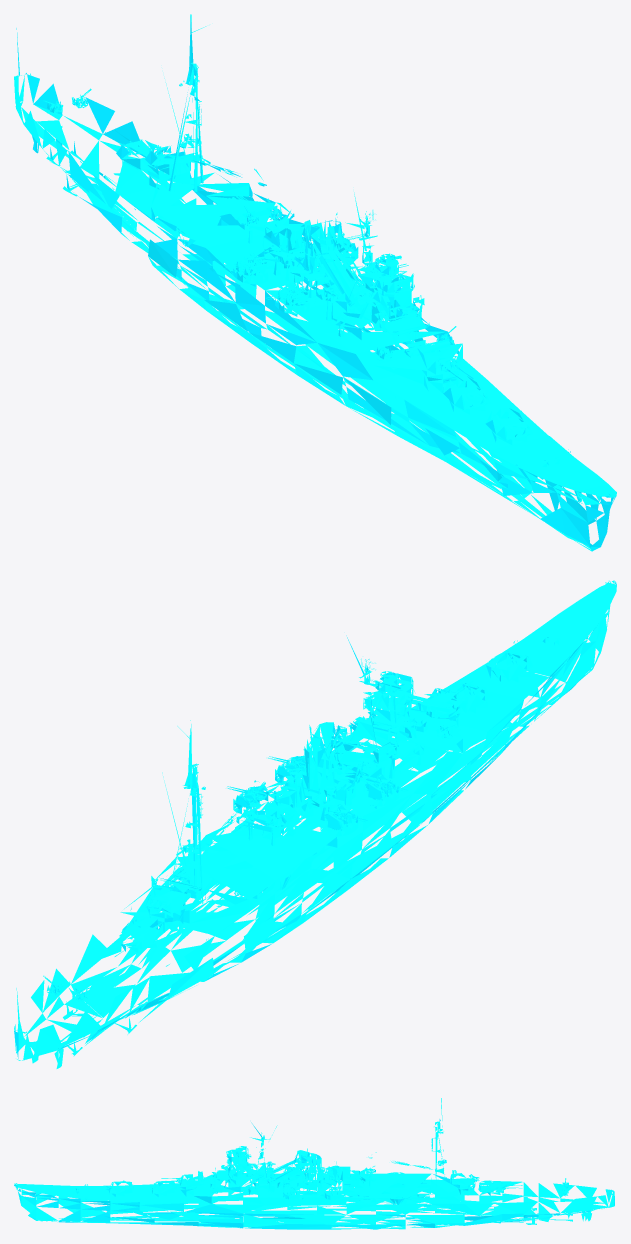
File: PJSC012.glb
3 renders of one model, top to bottom at view 1: azimuth 30°, elevation 25°; view 2: azimuth 150°, elevation 25°; view 3: azimuth 270°, elevation 25°, orthographic. The views are drawn at different scales.
Parts seen in each view (by area): view 1: hull_mid, hull_bow, hull_stern, main_battery, secondary_battery, aa_mount; view 2: hull_mid, hull_bow, main_battery, hull_stern, secondary_battery, aa_mount, superstructure; view 3: hull_mid, hull_bow, hull_stern, main_battery, secondary_battery, aa_mount, torpedo, superstructure.
Boxes of the visible parts, x1=… form: hull_mid: x1=68, y1=14, x2=548, y2=500; hull_bow: x1=488, y1=436, x2=616, y2=551; hull_stern: x1=14, y1=28, x2=146, y2=196; main_battery: x1=105, y1=130, x2=532, y2=440; secondary_battery: x1=224, y1=233, x2=408, y2=308; aa_mount: x1=43, y1=88, x2=456, y2=360; hull_mid: x1=68, y1=635, x2=549, y2=1024; hull_bow: x1=488, y1=580, x2=616, y2=726; main_battery: x1=105, y1=651, x2=532, y2=956; hull_stern: x1=14, y1=968, x2=150, y2=1068; secondary_battery: x1=227, y1=755, x2=408, y2=830; aa_mount: x1=43, y1=706, x2=455, y2=1001; superstructure: x1=199, y1=658, x2=401, y2=818; hull_mid: x1=104, y1=1098, x2=527, y2=1229; hull_bow: x1=14, y1=1183, x2=110, y2=1223; hull_stern: x1=522, y1=1182, x2=614, y2=1224; main_battery: x1=105, y1=1170, x2=522, y2=1193; secondary_battery: x1=287, y1=1161, x2=341, y2=1196; aa_mount: x1=211, y1=1166, x2=568, y2=1196; torpedo: x1=343, y1=1180, x2=429, y2=1202; superstructure: x1=235, y1=1132, x2=432, y2=1181.
Bounding box in the file's own units: 1.84 × 3.05 × 13.41.
